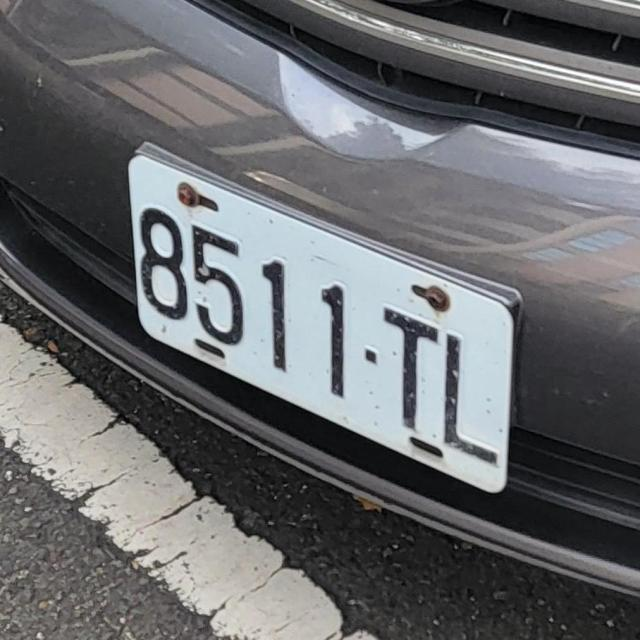W: (116, 166, 544, 474)
